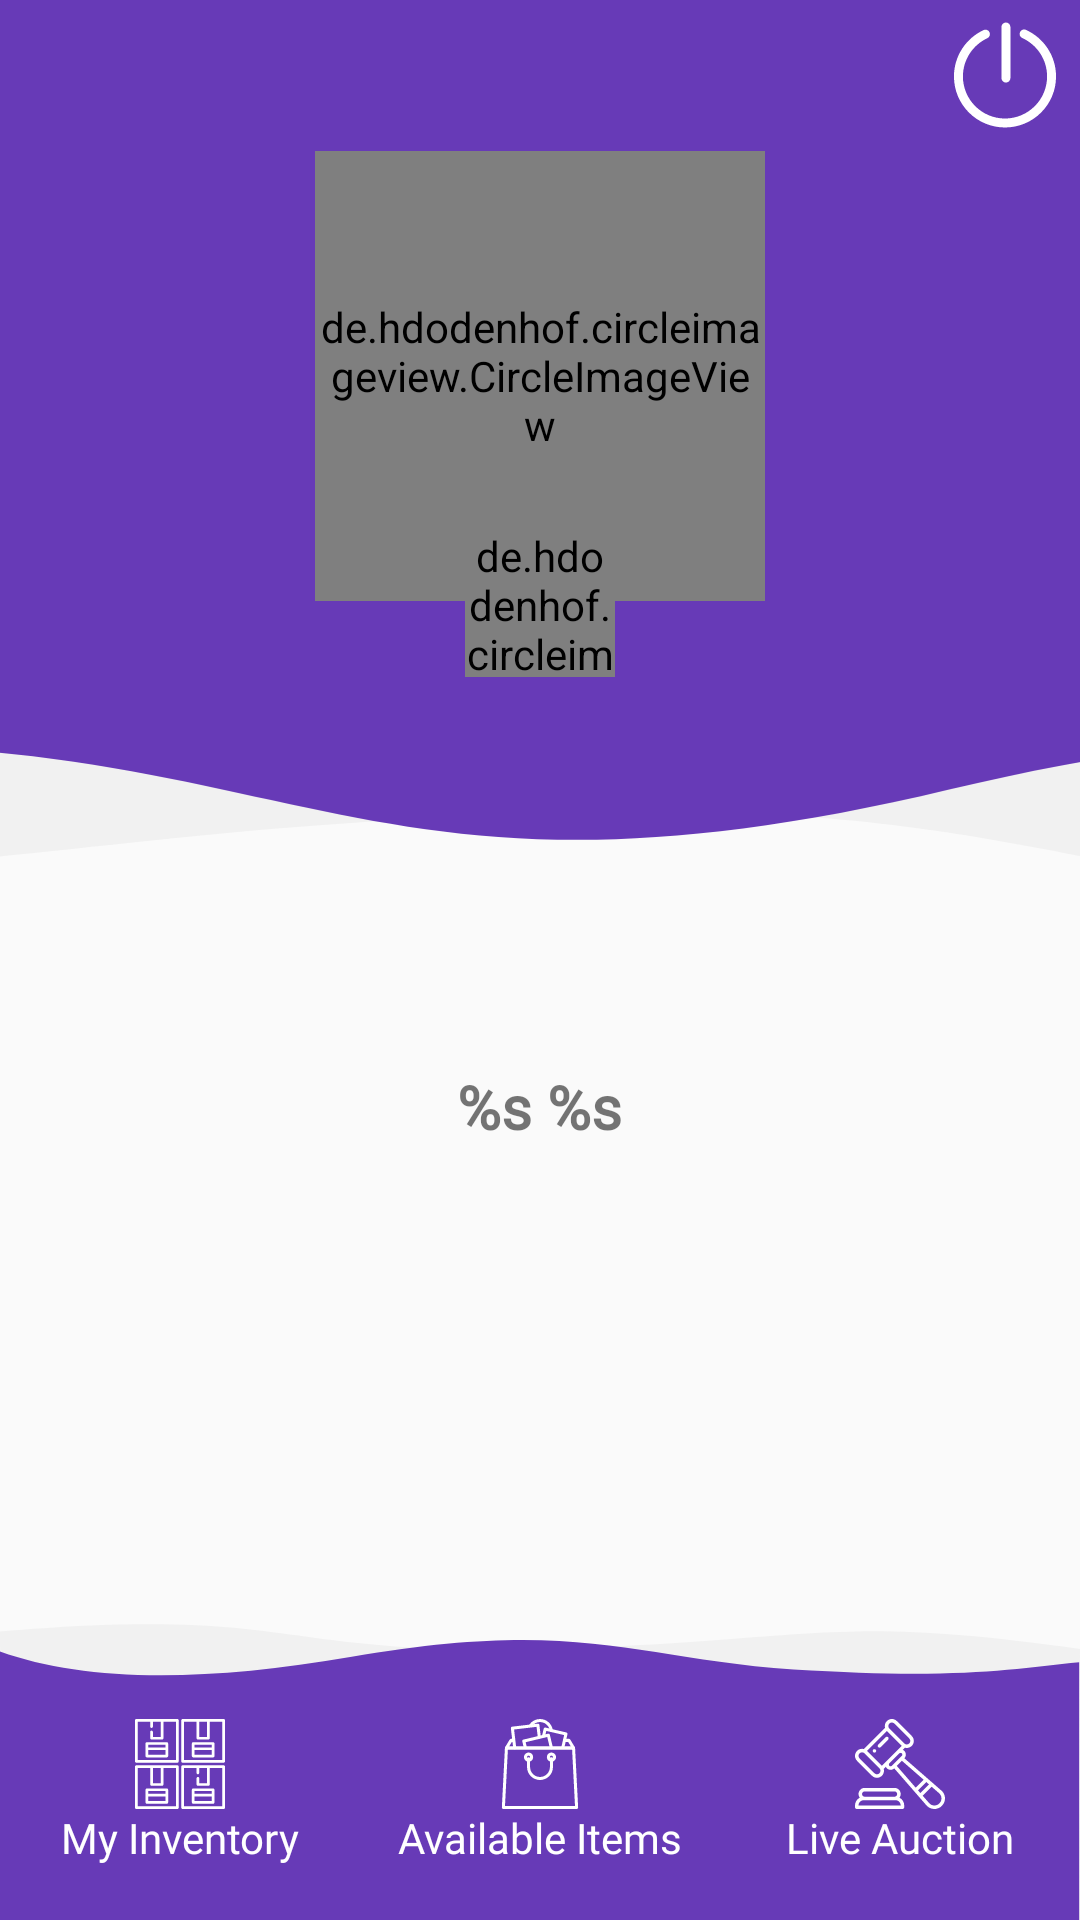

Icons on this 1080w x 1920h Android screen, each with its box as [x1=x1, y1=y1, x2=x2, y2=y2]:
shopping bag: [x1=502, y1=1719, x2=578, y2=1809]
